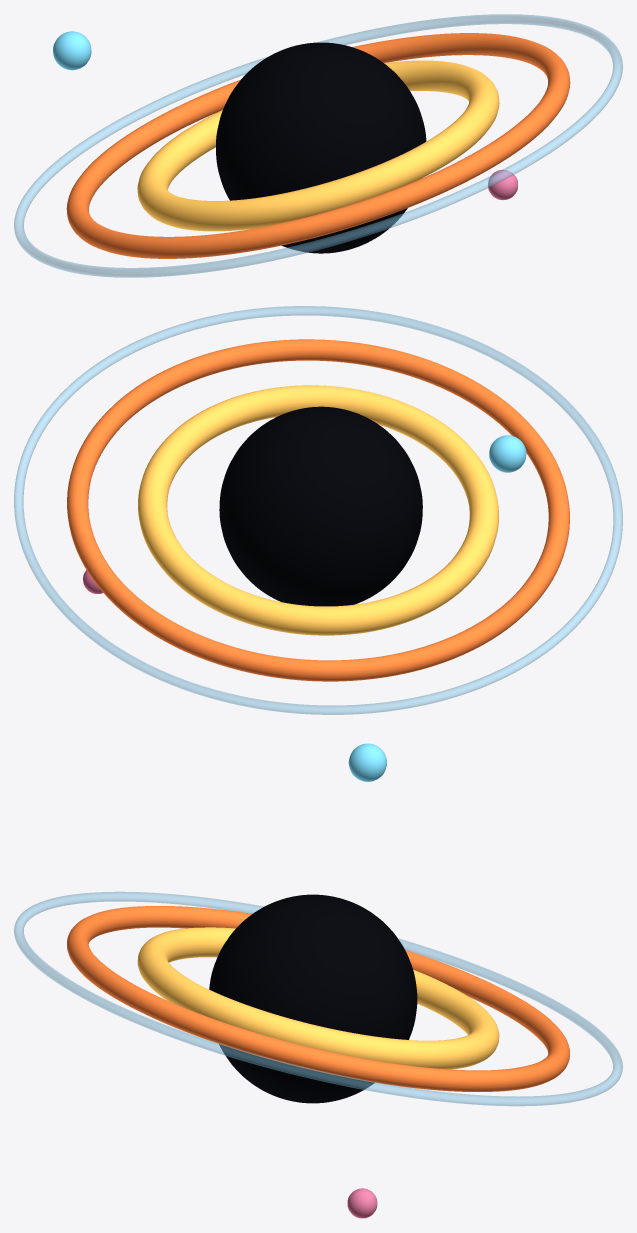
Rendered from space-p1-black-hole.glb.
3 renders of one model, top to bottom at view 1: azimuth 30°, elevation 25°; view 2: azimuth 150°, elevation 25°; view 3: azimuth 270°, elevation 25°, orthographic. The views are drawn at different scales.
Visible parts, largest first — view 1: black-hole-event-horizon-dark-core, orange-accretion-disk-wide-outer-ring, glowing-accretion-disk-fast-inner-ring, bent-light-photon-orbit, gravity-lensing-blue-back-star, gravity-lensing-red-back-star; view 2: black-hole-event-horizon-dark-core, orange-accretion-disk-wide-outer-ring, glowing-accretion-disk-fast-inner-ring, bent-light-photon-orbit, gravity-lensing-blue-back-star; view 3: black-hole-event-horizon-dark-core, orange-accretion-disk-wide-outer-ring, glowing-accretion-disk-fast-inner-ring, bent-light-photon-orbit, gravity-lensing-blue-back-star, gravity-lensing-red-back-star.
Boxes of the visible parts, box(x1,y1,x2,y2) form: black-hole-event-horizon-dark-core: box(216, 42, 426, 253); orange-accretion-disk-wide-outer-ring: box(66, 33, 570, 258); glowing-accretion-disk-fast-inner-ring: box(137, 60, 499, 231); bent-light-photon-orbit: box(14, 14, 622, 277); gravity-lensing-blue-back-star: box(53, 31, 91, 70); gravity-lensing-red-back-star: box(488, 169, 517, 199); black-hole-event-horizon-dark-core: box(219, 406, 422, 606); orange-accretion-disk-wide-outer-ring: box(67, 339, 569, 681); glowing-accretion-disk-fast-inner-ring: box(138, 385, 498, 635); bent-light-photon-orbit: box(14, 306, 622, 714); gravity-lensing-blue-back-star: box(489, 435, 526, 472); black-hole-event-horizon-dark-core: box(209, 894, 417, 1103); orange-accretion-disk-wide-outer-ring: box(67, 906, 569, 1091); glowing-accretion-disk-fast-inner-ring: box(137, 927, 499, 1069); bent-light-photon-orbit: box(14, 891, 622, 1106); gravity-lensing-blue-back-star: box(348, 743, 386, 781); gravity-lensing-red-back-star: box(347, 1188, 377, 1218).
Size of what is drawn, in the model's own units: 2.24 by 1.06 by 2.22.
